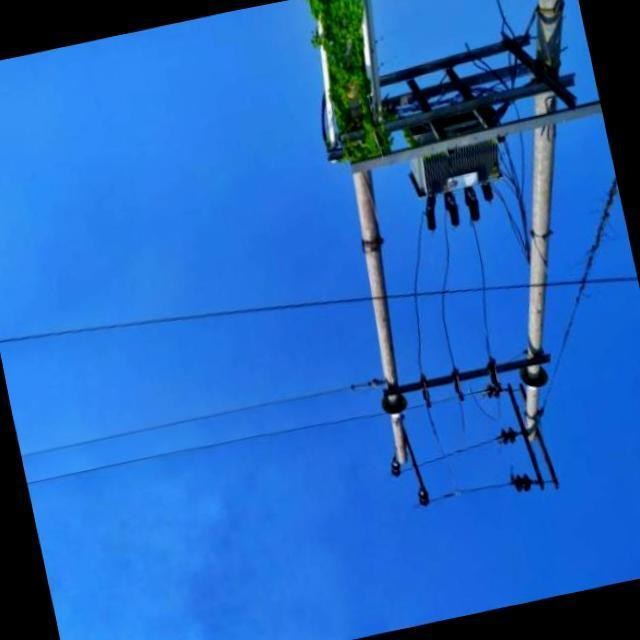critical vegetation: (295, 0, 416, 229)
